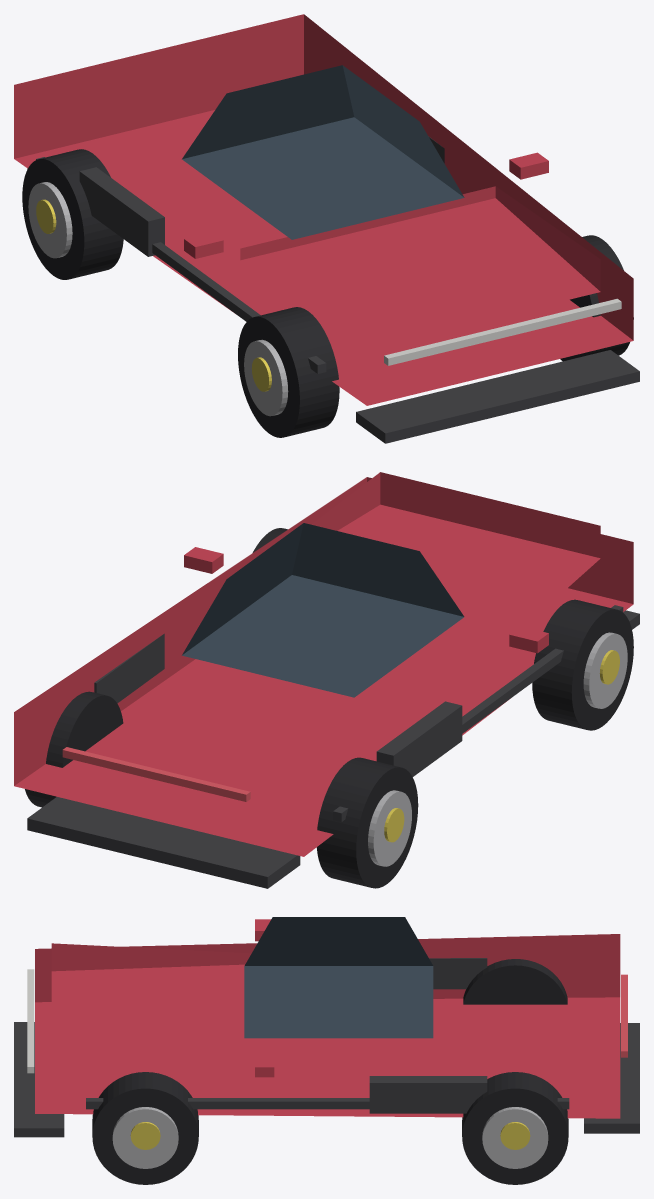
File: rosso_gt_ferrari_style.glb
3 renders of one model, top to bottom at view 1: azimuth 30°, elevation 25°; view 2: azimuth 150°, elevation 25°; view 3: azimuth 270°, elevation 25°, orthographic. The views are drawn at different scales.
Visible parts, largest first — view 1: part_0, part_1, part_2, part_3, part_9, part_12, part_5, part_7, part_13, part_10, part_23, part_15 (+2 smaller); view 2: part_0, part_2, part_1, part_4, part_12, part_9, part_18, part_5, part_6, part_8, part_10, part_13 (+3 smaller); view 3: part_0, part_1, part_2, part_15, part_18, part_6, part_12, part_3, part_16, part_19, part_4, part_24 (+6 smaller).
Boxes of the visible parts, x1=… form: part_0: x1=14, y1=14, x2=633, y2=405; part_1: x1=240, y1=186, x2=600, y2=345; part_2: x1=182, y1=65, x2=464, y2=239; part_3: x1=356, y1=350, x2=639, y2=443; part_9: x1=238, y1=307, x2=339, y2=437; part_12: x1=22, y1=149, x2=123, y2=279; part_5: x1=79, y1=167, x2=164, y2=256; part_7: x1=384, y1=298, x2=621, y2=365; part_13: x1=28, y1=182, x2=72, y2=258; part_10: x1=244, y1=339, x2=288, y2=416; part_23: x1=36, y1=157, x2=326, y2=373; part_15: x1=560, y1=235, x2=633, y2=361; part_0: x1=14, y1=477, x2=633, y2=856; part_2: x1=182, y1=523, x2=464, y2=697; part_1: x1=311, y1=472, x2=600, y2=652; part_4: x1=27, y1=797, x2=300, y2=888; part_12: x1=316, y1=757, x2=418, y2=888; part_9: x1=532, y1=599, x2=633, y2=730; part_18: x1=25, y1=691, x2=123, y2=807; part_5: x1=376, y1=701, x2=462, y2=776; part_6: x1=94, y1=633, x2=164, y2=703; part_8: x1=62, y1=747, x2=250, y2=801; part_10: x1=583, y1=632, x2=627, y2=708; part_13: x1=368, y1=790, x2=411, y2=866; part_0: x1=35, y1=934, x2=620, y2=1118; part_1: x1=51, y1=943, x2=261, y2=1070; part_2: x1=244, y1=917, x2=433, y2=1038; part_15: x1=92, y1=1072, x2=198, y2=1184; part_18: x1=462, y1=1072, x2=568, y2=1184; part_6: x1=369, y1=1076, x2=487, y2=1113; part_12: x1=463, y1=959, x2=567, y2=1004; part_3: x1=14, y1=1022, x2=64, y2=1137; part_16: x1=112, y1=1107, x2=178, y2=1168; part_19: x1=482, y1=1107, x2=548, y2=1168; part_4: x1=584, y1=1023, x2=639, y2=1133; part_24: x1=86, y1=1098, x2=569, y2=1109.
Bounding box in the file's own units: 2.5 × 1.37 × 4.47.
